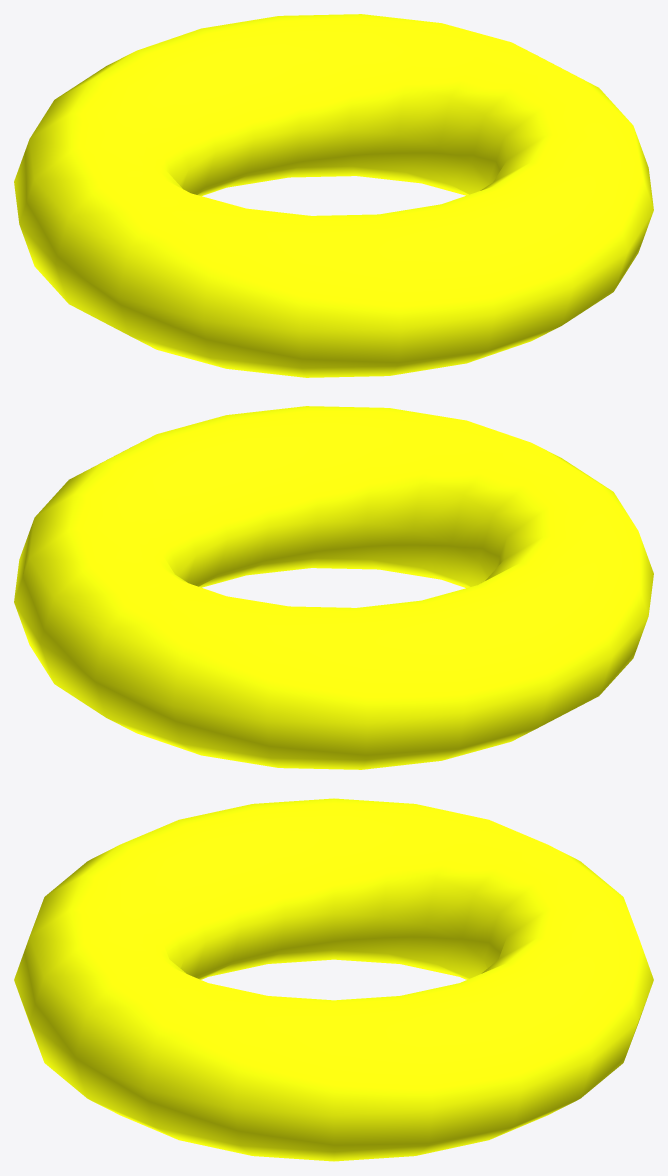
Rendered from BaseToroids.003.glb.
3 renders of one model, top to bottom at view 1: azimuth 30°, elevation 25°; view 2: azimuth 150°, elevation 25°; view 3: azimuth 270°, elevation 25°, orthographic.
Parts seen in each view (by area): view 1: BaseToroids.003; view 2: BaseToroids.003; view 3: BaseToroids.003.
Part boxes in pixels (box(x1,y1,x2,y2)): BaseToroids.003: box(14, 14, 653, 377); BaseToroids.003: box(14, 406, 653, 769); BaseToroids.003: box(14, 798, 653, 1161).
Size of what is drawn, in the model's own units: 0.9438 by 0.2278 by 0.9438.
Materials: 1 (1 with a texture image).
